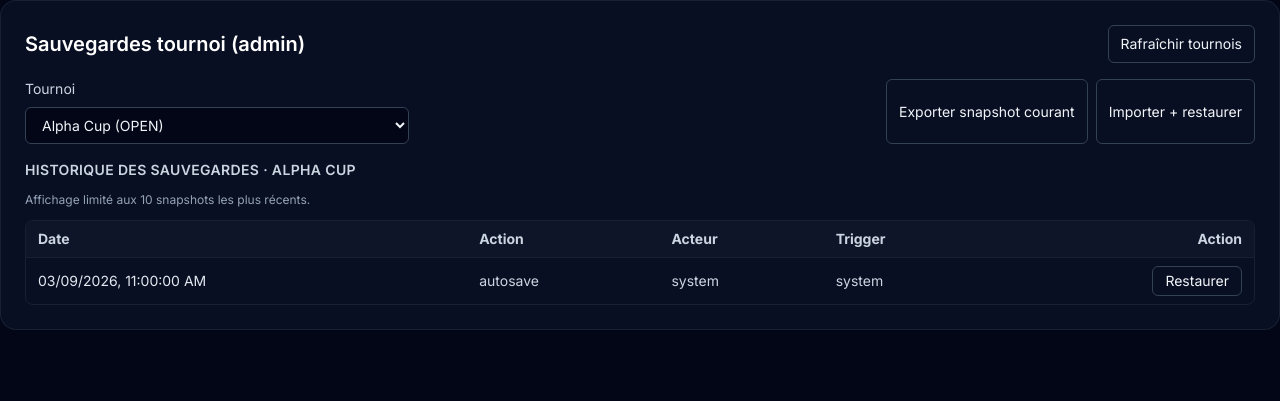
TournamentSnapshotsView › uses fallback messages for export and restore errors when non-Error values are thrown
expect the button "Restaurer" is shown: met, box [1152,266,1242,296]
Click the button "Exporter snapshot courant" at (987, 112), box [886,79,1088,144]
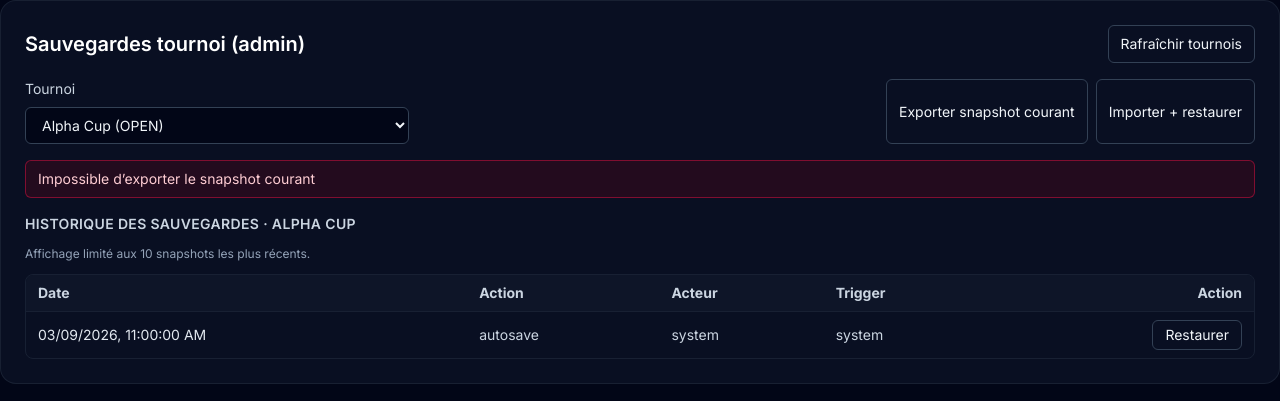
expect the text "Impossible d’exporter le snapshot courant" is shown: met, box [25,160,1255,198]
Click the button "Restaurer" at (1197, 335), box [1152,320,1242,350]
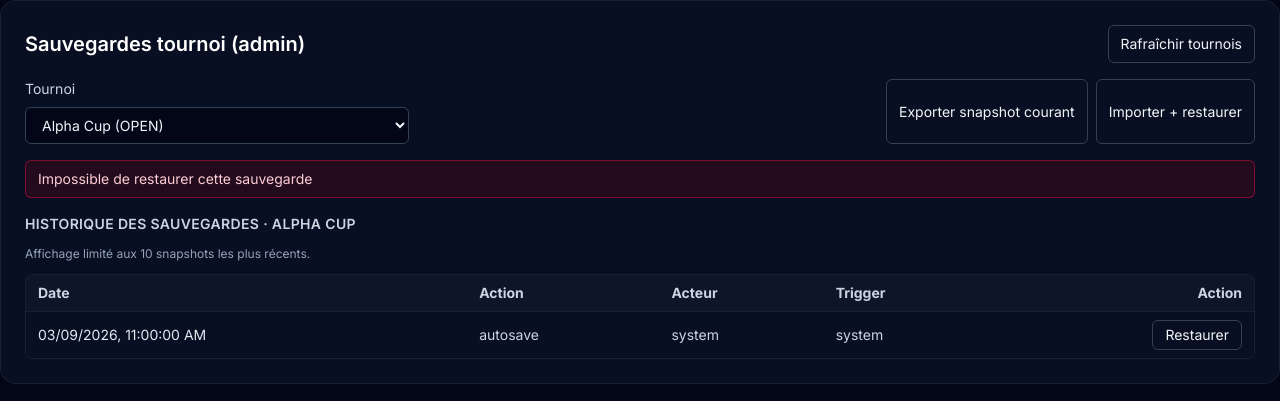
expect the text "Impossible de restaurer cette sauvegarde" is shown: met, box [25,160,1255,198]
